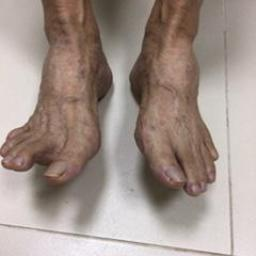Front View -Both Feet-: (2, 4, 227, 214)
